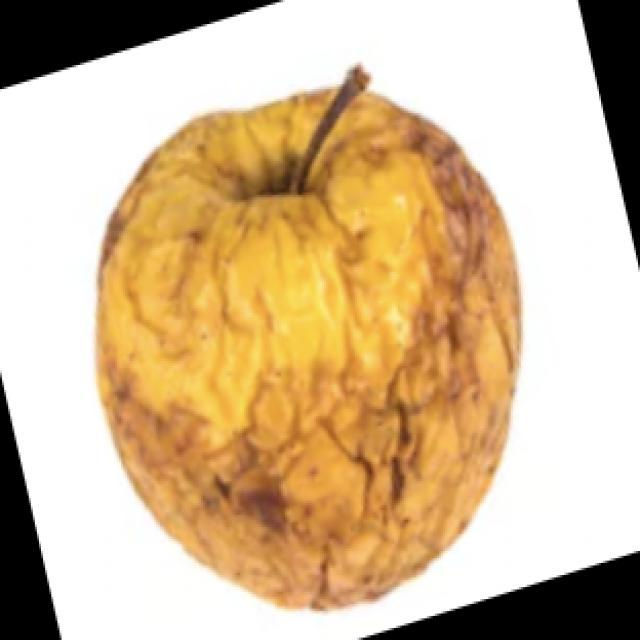Rotten: (104, 102, 534, 608)
